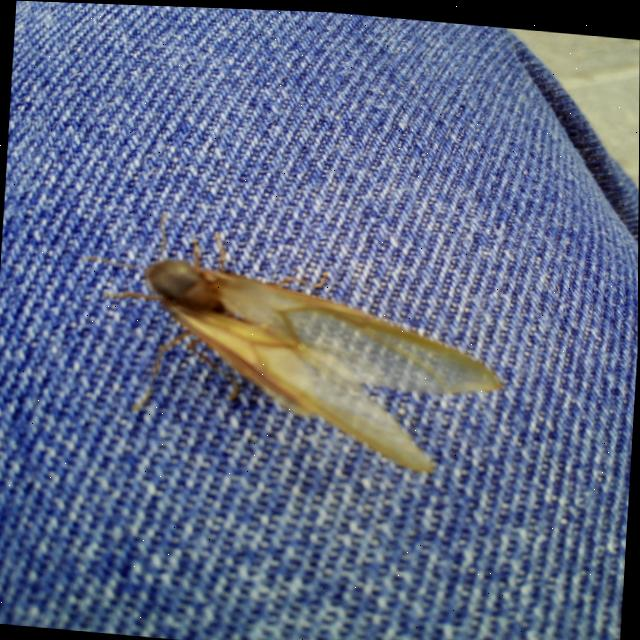Alive-Male-Alate: (71, 197, 511, 482)
